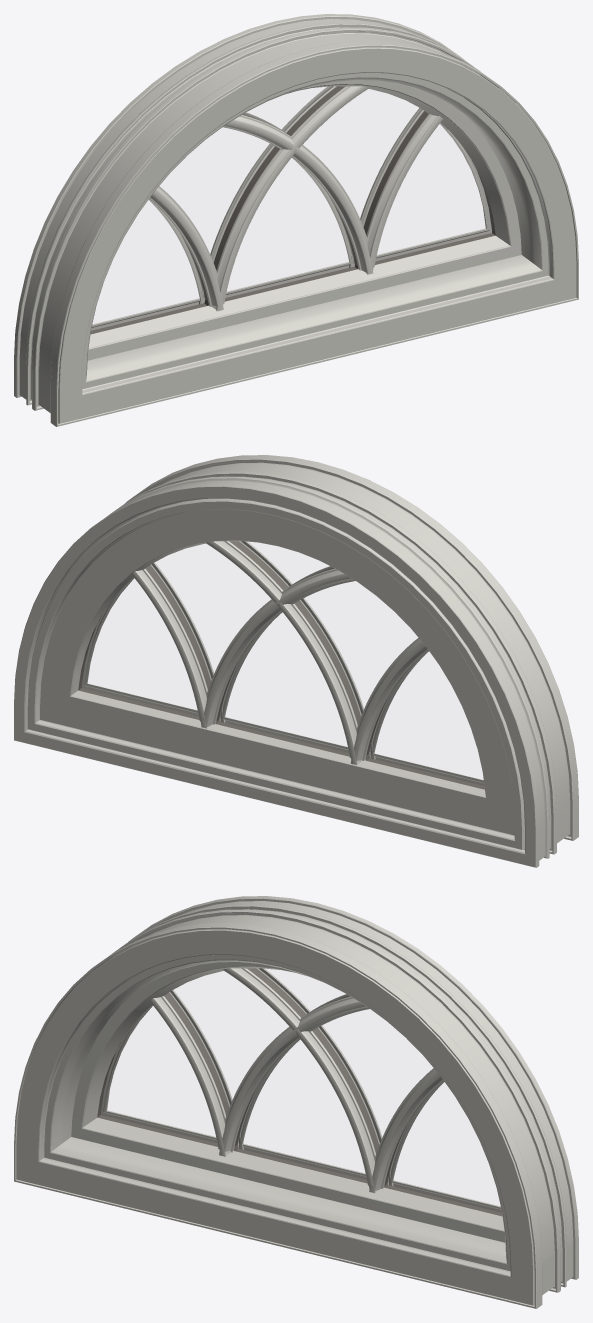
Rendered from 10_W_SwCircleTop.glb.
3 renders of one model, top to bottom at view 1: azimuth 30°, elevation 25°; view 2: azimuth 150°, elevation 25°; view 3: azimuth 330°, elevation 25°, orthographic.
Parts seen in each view (by area): view 1: 10_W_Interior, 10_W_Exterior, 10_W_Spacers; view 2: 10_W_Exterior, 10_W_Interior, 10_W_Spacers; view 3: 10_W_Interior, 10_W_Exterior, 10_W_Spacers.
Part boxes in pixels (x1,y1,x2,y2): 10_W_Interior: [31, 27, 578, 426]; 10_W_Exterior: [14, 14, 491, 405]; 10_W_Spacers: [90, 86, 495, 334]; 10_W_Exterior: [14, 476, 549, 867]; 10_W_Interior: [82, 455, 578, 854]; 10_W_Spacers: [78, 541, 484, 789]; 10_W_Interior: [14, 909, 561, 1308]; 10_W_Exterior: [101, 896, 578, 1287]; 10_W_Spacers: [97, 968, 502, 1216].
Bounding box in the file's own units: 26.43 × 15.03 × 3.79.
4 materials, 4 textured.
